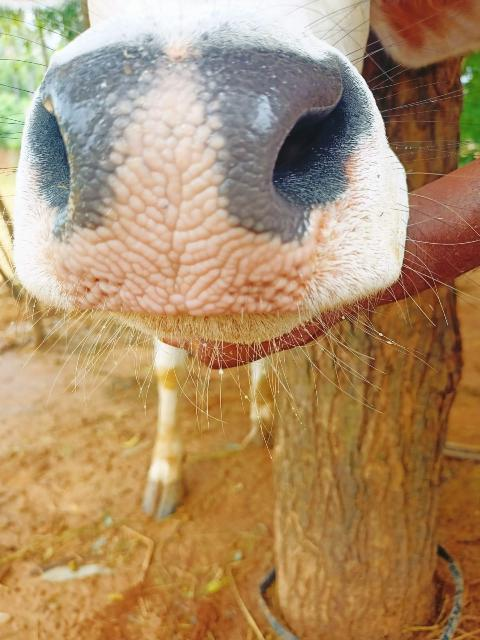Muzzle: (58, 63, 283, 307)
